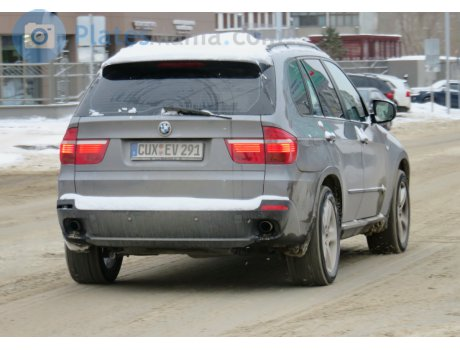License Plates: (135, 140, 202, 154)
